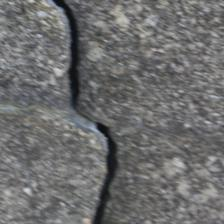Crack: (38, 21, 99, 193), (0, 0, 86, 82)
